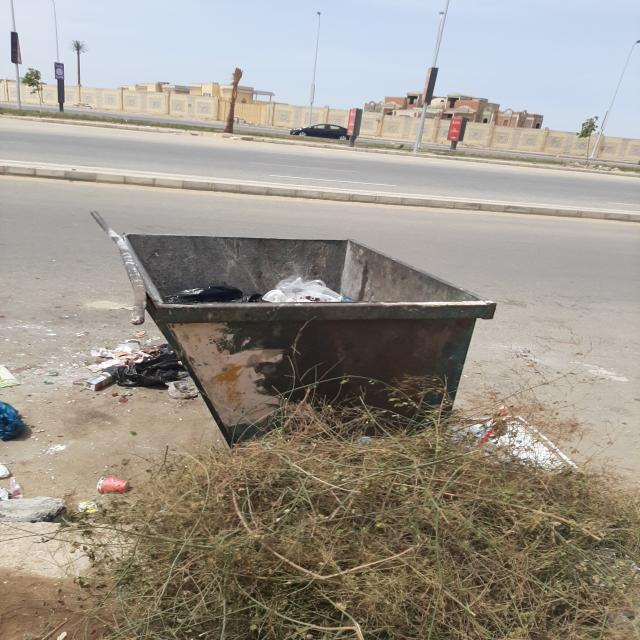Street Light: (588, 39, 640, 159), (417, 11, 448, 156), (306, 12, 323, 132)
